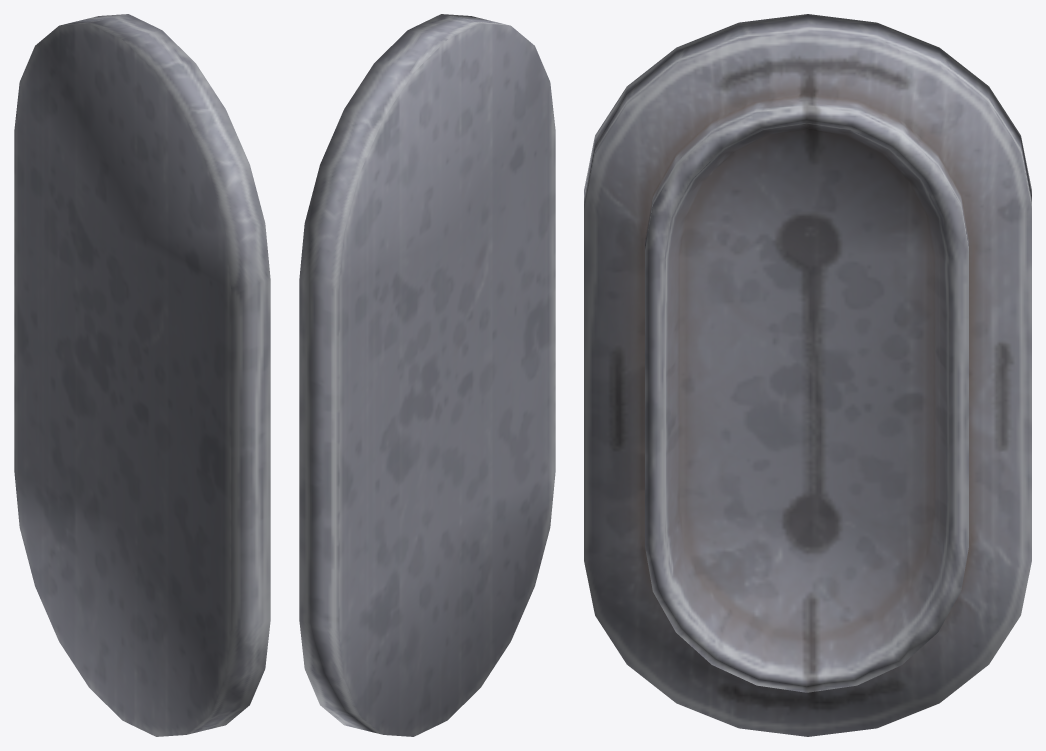
The model's file is Asset_BoutonSocle_01.fbx.
3 views of the same model, side by side, from view 1: azimuth 30°, elevation 25°; view 2: azimuth 150°, elevation 25°; view 3: azimuth 270°, elevation 25° (orthographic). The views are drawn at different scales.
Parts seen in each view (by area): view 1: Asset_BoutonSocle_01; view 2: Asset_BoutonSocle_01; view 3: Asset_BoutonSocle_01.
Part boxes in pixels (bbox=[...]): Asset_BoutonSocle_01: bbox=[14, 14, 270, 736]; Asset_BoutonSocle_01: bbox=[299, 14, 555, 736]; Asset_BoutonSocle_01: bbox=[584, 14, 1031, 736].
Bounding box in the file's own units: 47.32 × 451 × 261.
